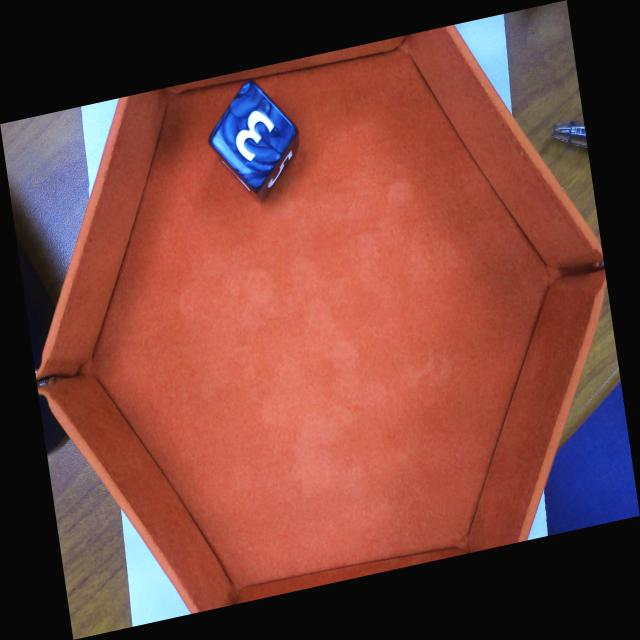dice: (211, 80, 300, 194)
